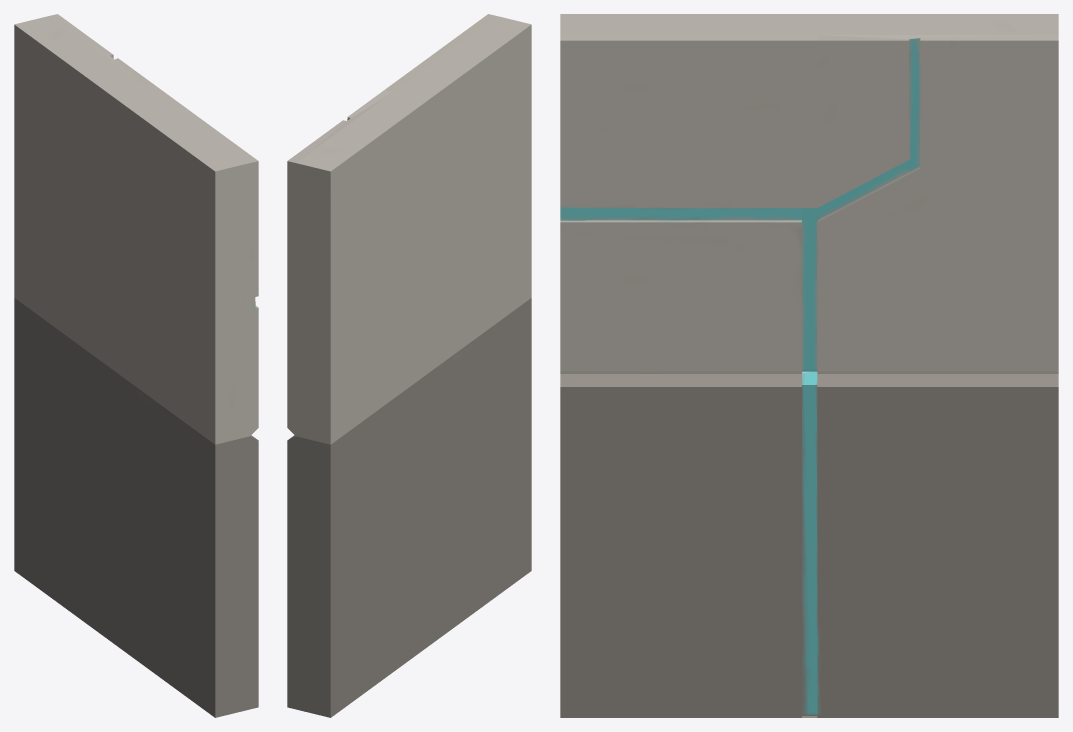
The model's file is Wall_Left.glb.
The picture shows the model from 3 angles, left to right: view 1: azimuth 30°, elevation 25°; view 2: azimuth 150°, elevation 25°; view 3: azimuth 270°, elevation 25°; orthographic projection. The views are drawn at different scales.
Parts seen in each view (by area): view 1: Wall_Left; view 2: Wall_Left; view 3: Wall_Left.
Boxes of the visible parts, left/top/right/bottom form: Wall_Left: left=14, top=14, right=258, bottom=717; Wall_Left: left=287, top=14, right=531, bottom=717; Wall_Left: left=560, top=14, right=1058, bottom=717.
Size of the model in its own units: 0.375 by 4.5 by 3.
1 material, 1 textured.
